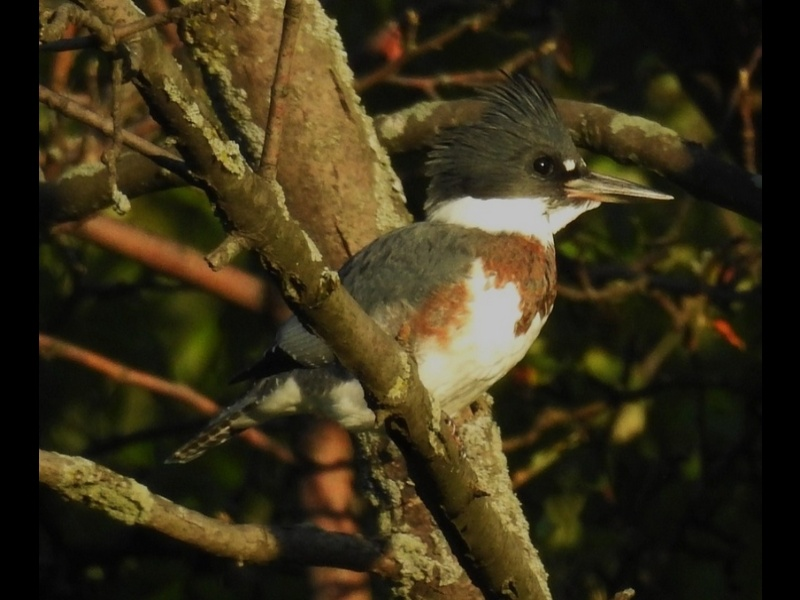kingfisher: (155, 68, 678, 480)
